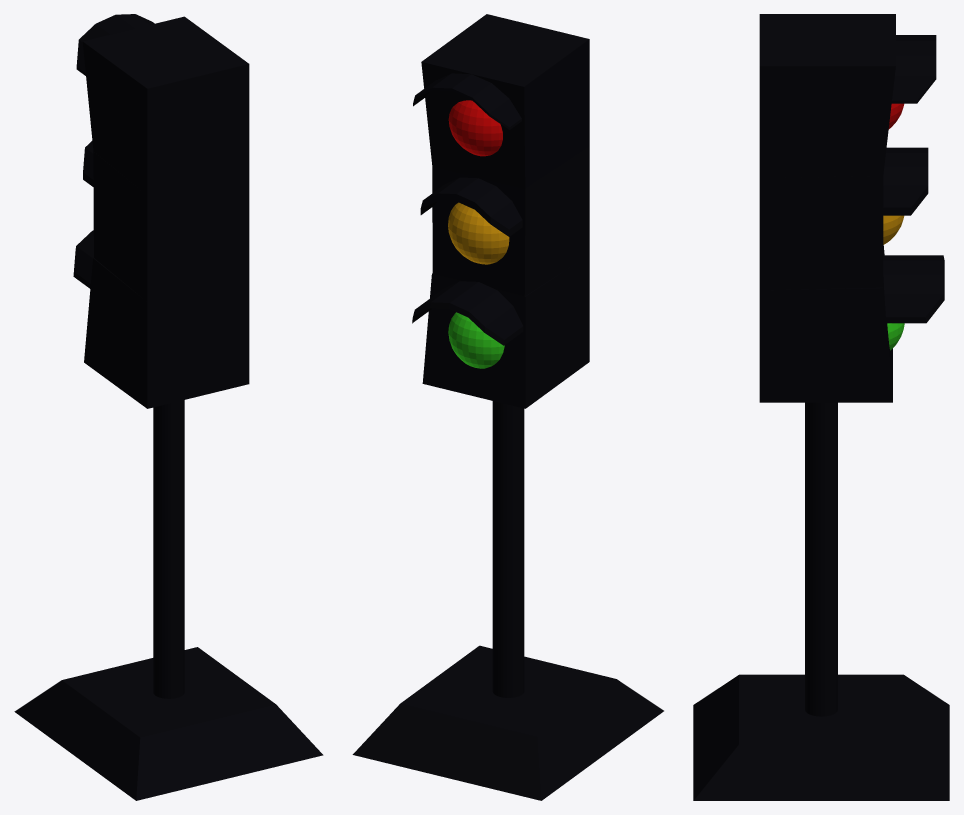
File: semaforoPadre.obj
3 views of the same model, side by side, from view 1: azimuth 30°, elevation 25°; view 2: azimuth 150°, elevation 25°; view 3: azimuth 270°, elevation 25° (orthographic). The views are drawn at different scales.
Parts seen in each view (by area): view 1: Cube; view 2: Cube; view 3: Cube.
Part boxes in pixels (box(x1,y1,x2,y2)): Cube: box(14, 14, 323, 800); Cube: box(352, 14, 663, 800); Cube: box(693, 14, 949, 800).
Bounding box in the file's own units: 2.76 × 9.54 × 3.11.
